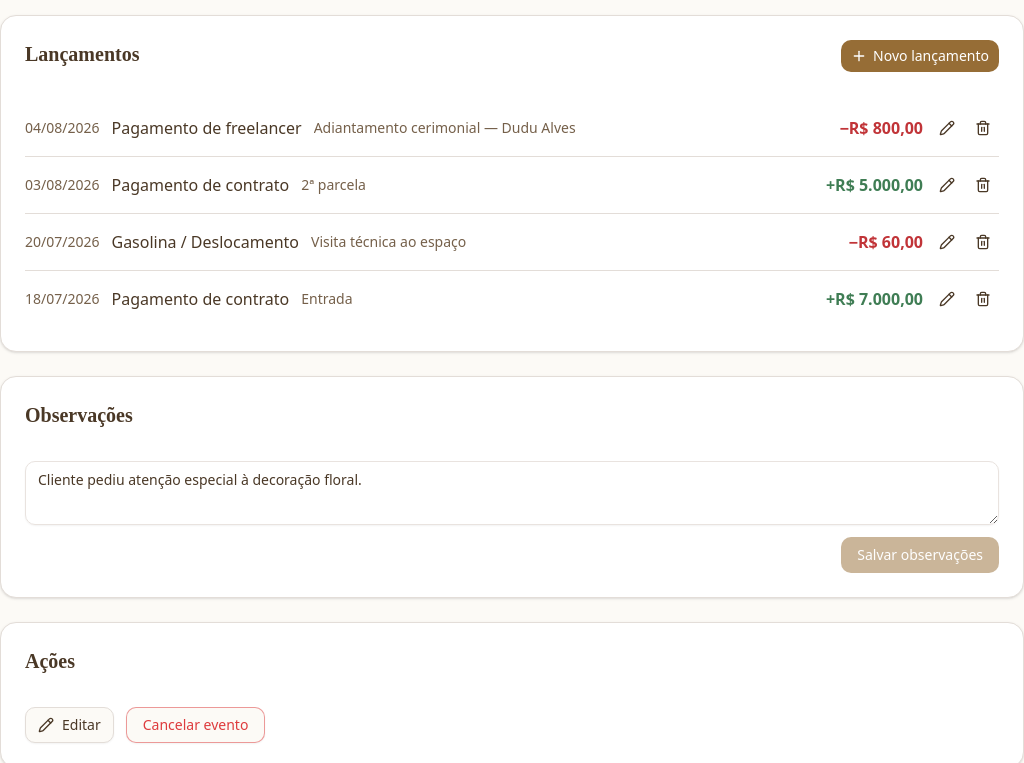
Test case: EventoDetalhePage › canceling via the confirm dialog shows the banner and flips the status badge to Cancelado
(page scrolled)
expect the text "Evento cancelado." is not shown: met
Click the button "Cancelar evento". click: [196, 724]
box: [126,706,265,742]
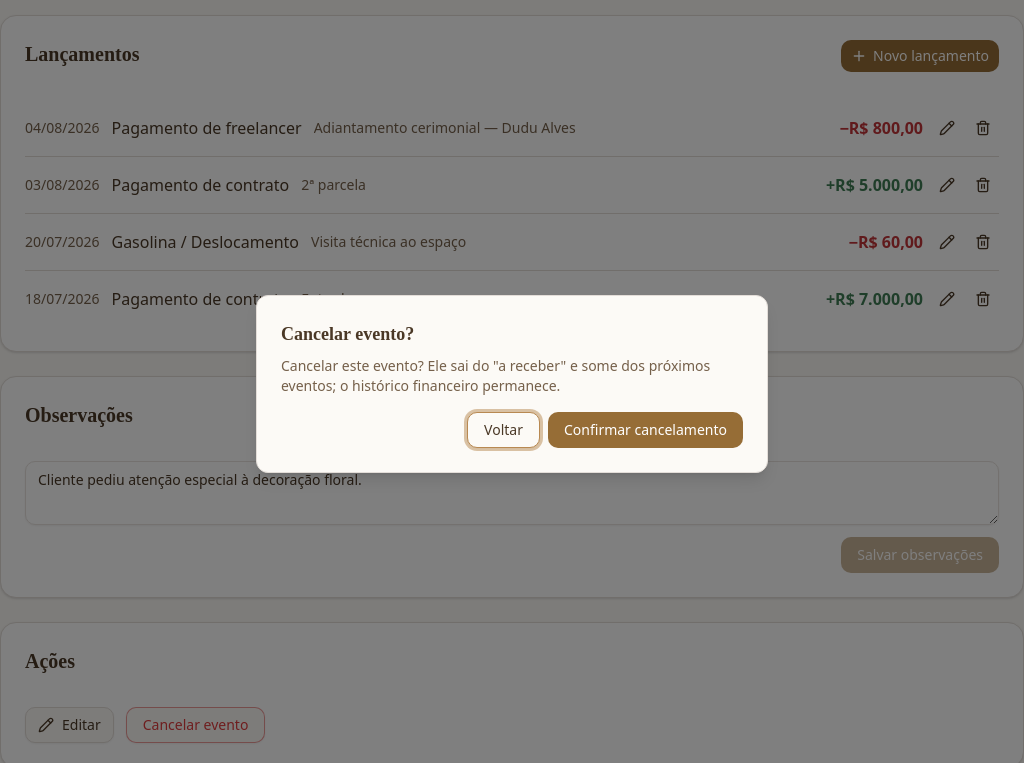
Click the button "Confirmar cancelamento". click: [646, 430]
box: [548,412,743,448]
(page scrolled)
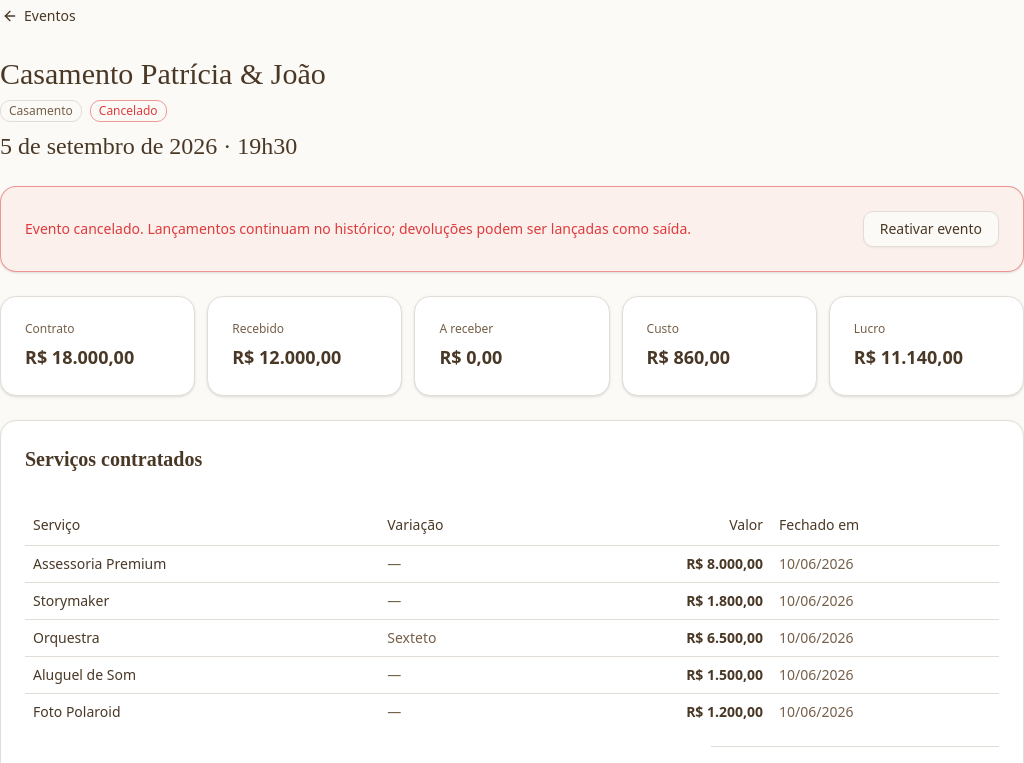
expect the text "Evento cancelado." is shown: met, box [25,219,691,238]
expect the text "Cancelado" is shown: met, box [90,100,166,122]
